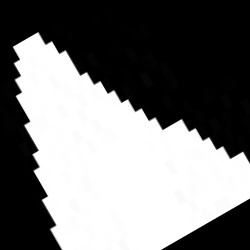spot: (13, 30, 249, 248)
